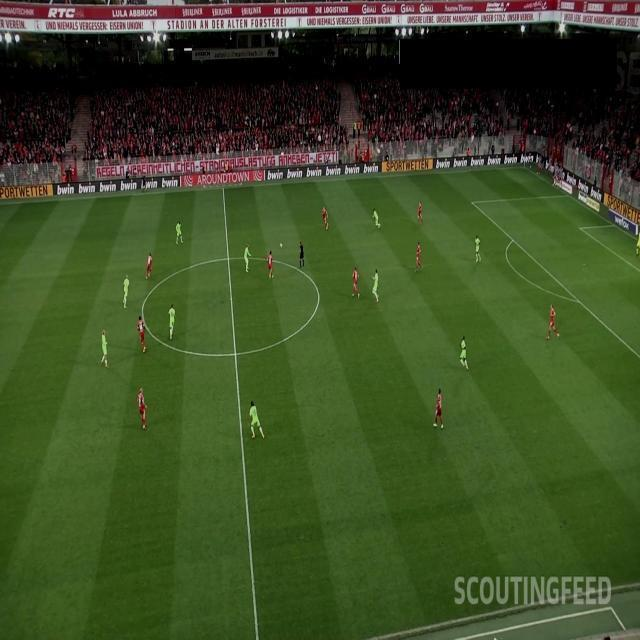ball: (279, 242, 283, 250)
team1: (546, 304, 560, 341), (136, 388, 148, 430), (433, 388, 444, 429), (136, 315, 146, 353), (415, 241, 423, 273), (352, 267, 360, 299), (266, 250, 274, 279), (417, 200, 424, 226), (146, 252, 152, 280), (322, 206, 328, 230)
team2: (248, 400, 266, 440), (100, 330, 110, 368), (459, 336, 468, 370), (168, 303, 176, 340), (371, 268, 379, 304), (122, 274, 130, 310), (244, 242, 252, 273), (474, 234, 482, 263), (175, 220, 184, 244), (372, 208, 380, 228)
